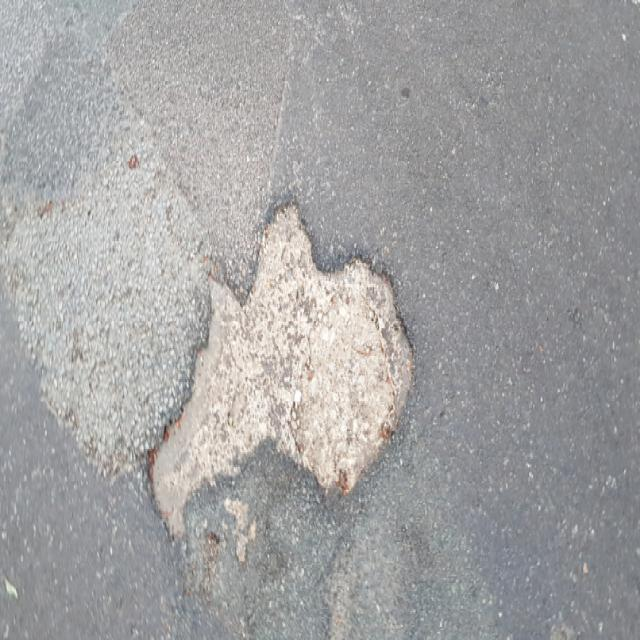pothole: (142, 191, 418, 547)
